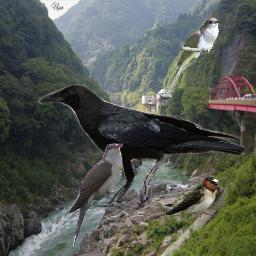Crow: (38, 82, 245, 207)
Cuckoo: (68, 143, 123, 249), (163, 17, 221, 97)
Swallow: (163, 175, 221, 218)
